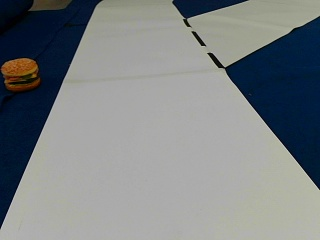burger: (0, 56, 40, 90)
